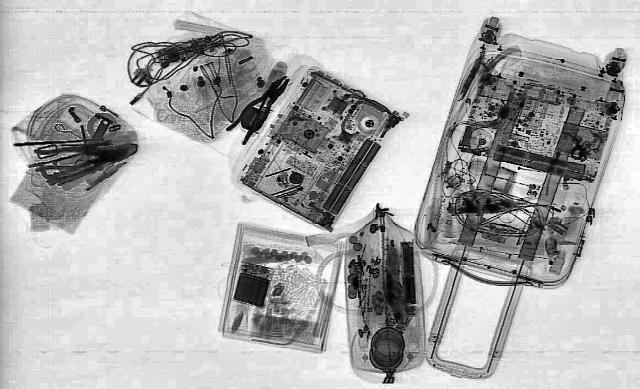Pliers: (24, 134, 148, 188), (217, 73, 303, 143)
Wrench: (70, 118, 112, 168)
